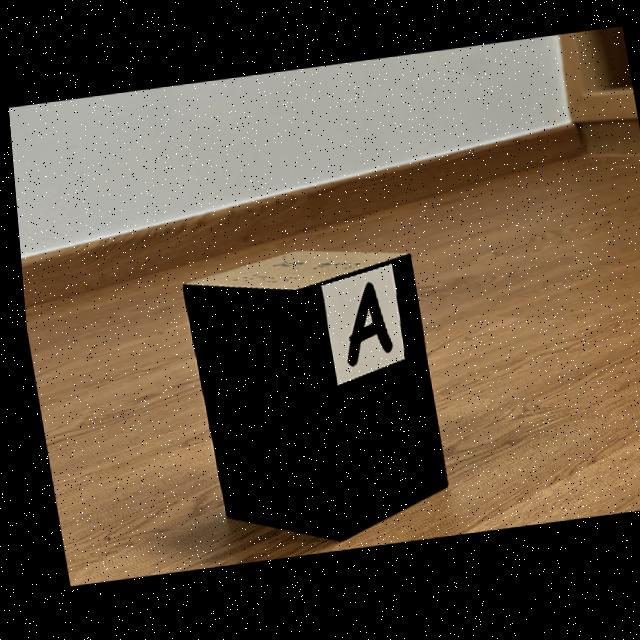A: (341, 286, 386, 369)
